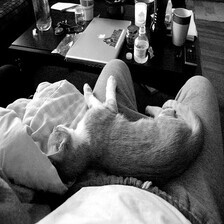laptop: (47, 13, 148, 77)
